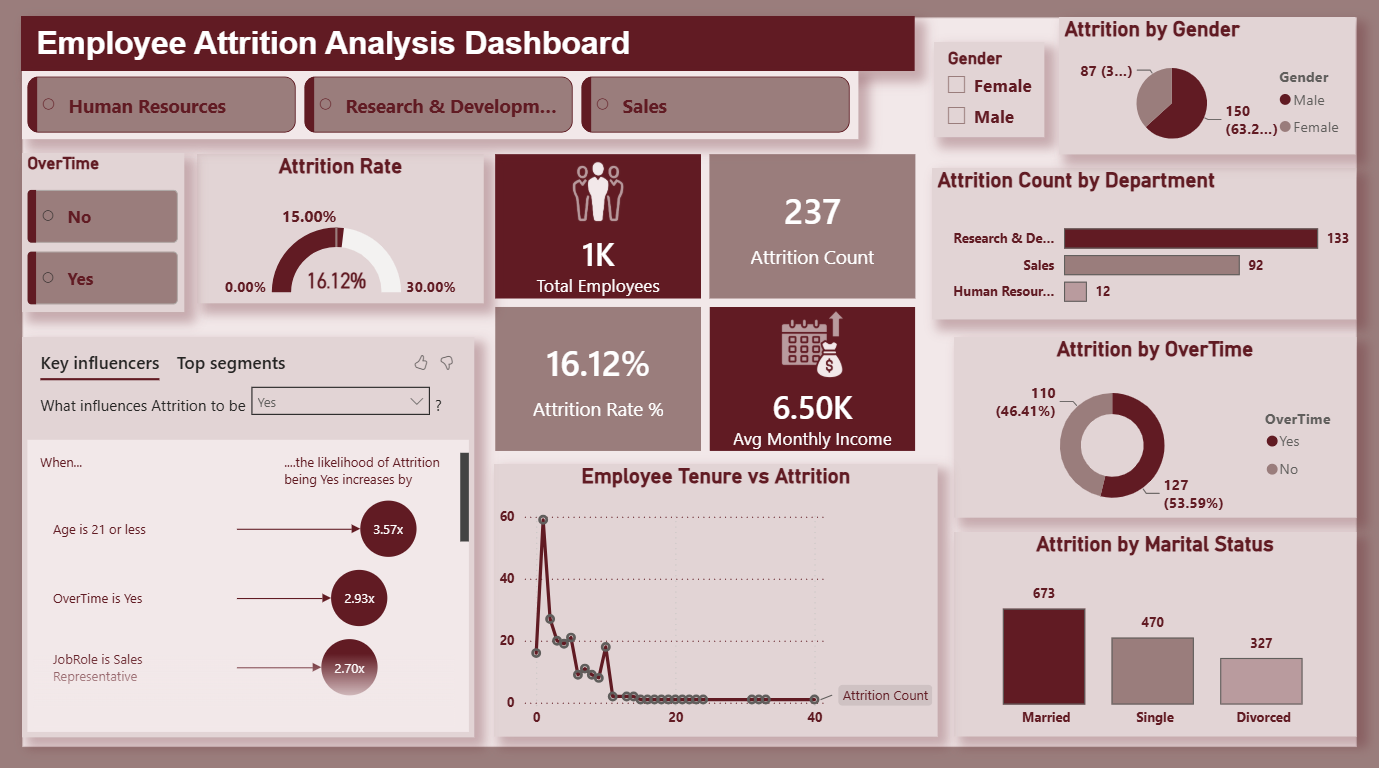

Layout of this report page (visuals, bound fields, positions):
{"tool":"powerbi","page":{"name":"Page 1","canvas":[1280,720],"ordinal":0},"visuals":[{"type":"shape","box":[23.1,24,826.2,50.8],"z":0},{"type":"textbox","title":"Employee Attrition Analysis Dashboard","box":[32.3,32.3,596.1,42.5],"z":1000},{"type":"cardVisual","fields":{"Data":["WA_Fn-UseC_-HR-Employee-Attrition.Total Employees","WA_Fn-UseC_-HR-Employee-Attrition.Attrition Count","WA_Fn-UseC_-HR-Employee-Attrition.Attrition Rate %","WA_Fn-UseC_-HR-Employee-Attrition.Average Monthly Income"]},"box":[444.5,134.9,423.3,308.7],"z":2000},{"type":"clusteredBarChart","fields":{"Category":["WA_Fn-UseC_-HR-Employee-Attrition.Department"],"Y":["WA_Fn-UseC_-HR-Employee-Attrition.Attrition Count"]},"box":[865,164.5,391.9,139.6],"z":3000},{"type":"gauge","title":"Attrition Rate","fields":{"Y":["WA_Fn-UseC_-HR-Employee-Attrition.Attrition Rate %"]},"box":[183.9,151.6,265.2,137.7],"z":4000},{"type":"donutChart","title":"Attrition by OverTime","fields":{"Category":["WA_Fn-UseC_-HR-Employee-Attrition.OverTime"],"Y":["WA_Fn-UseC_-HR-Employee-Attrition.Attrition Count"]},"box":[885.4,320.7,371.5,167.3],"z":5000},{"type":"lineClusteredColumnComboChart","title":"Attrition by Marital Status","fields":{"Category":["WA_Fn-UseC_-HR-Employee-Attrition.MaritalStatus"],"Y":["CountNonNull(WA_Fn-UseC_-HR-Employee-Attrition.Attrition)"]},"box":[885.4,500.9,371.5,189.5],"z":6000},{"type":"lineChart","title":"Employee Tenure vs Attrition","fields":{"Category":["WA_Fn-UseC_-HR-Employee-Attrition.YearsAtCompany"],"Y":["WA_Fn-UseC_-HR-Employee-Attrition.Attrition Count"]},"box":[460.2,438.1,410.3,252.3],"z":7000},{"type":"keyDriversVisual","fields":{"Target":["WA_Fn-UseC_-HR-Employee-Attrition.Attrition"],"ExplainBy":["WA_Fn-UseC_-HR-Employee-Attrition.OverTime","WA_Fn-UseC_-HR-Employee-Attrition.MonthlyIncome","WA_Fn-UseC_-HR-Employee-Attrition.JobSatisfaction","WA_Fn-UseC_-HR-Employee-Attrition.EnvironmentSatisfaction","WA_Fn-UseC_-HR-Employee-Attrition.WorkLifeBalance","WA_Fn-UseC_-HR-Employee-Attrition.Age","WA_Fn-UseC_-HR-Employee-Attrition.YearsAtCompany","WA_Fn-UseC_-HR-Employee-Attrition.DistanceFromHome","WA_Fn-UseC_-HR-Employee-Attrition.JobRole"]},"box":[24.6,321,425.2,369.3],"z":8000},{"type":"advancedSlicerVisual","fields":{"Values":["WA_Fn-UseC_-HR-Employee-Attrition.Department"]},"box":[24.6,74.5,772.5,63.5],"z":9000},{"type":"slicer","fields":{"Values":["WA_Fn-UseC_-HR-Employee-Attrition.Gender"]},"box":[866.9,48.1,101.7,87.8],"z":10000},{"type":"advancedSlicerVisual","fields":{"Values":["WA_Fn-UseC_-HR-Employee-Attrition.OverTime"]},"box":[24.6,150.8,148.2,161.8],"z":11000},{"type":"pieChart","title":"Attrition by Gender","fields":{"Category":["WA_Fn-UseC_-HR-Employee-Attrition.Gender"],"Y":["WA_Fn-UseC_-HR-Employee-Attrition.Attrition Count"]},"box":[982.6,25.4,274.4,127.1],"z":12000}]}

Visuals, with their boxes in screenshot pixels (x1, y1, x2, y2), scaled from the page's 1280x720 canvas onto the 1379x768 screenshot:
shape: BBox(25, 26, 915, 80)
"Employee Attrition Analysis Dashboard" textbox: BBox(35, 34, 677, 80)
cardVisual - WA_Fn-UseC_-HR-Employee-Attrition.Total Employees x WA_Fn-UseC_-HR-Employee-Attrition.Attrition Count: BBox(479, 144, 935, 473)
clusteredBarChart - WA_Fn-UseC_-HR-Employee-Attrition.Department x WA_Fn-UseC_-HR-Employee-Attrition.Attrition Count: BBox(932, 175, 1354, 324)
"Attrition Rate" gauge: BBox(198, 162, 484, 309)
"Attrition by OverTime" donutChart: BBox(954, 342, 1354, 521)
"Attrition by Marital Status" lineClusteredColumnComboChart: BBox(954, 534, 1354, 736)
"Employee Tenure vs Attrition" lineChart: BBox(496, 467, 938, 736)
keyDriversVisual - WA_Fn-UseC_-HR-Employee-Attrition.Attrition x WA_Fn-UseC_-HR-Employee-Attrition.OverTime: BBox(27, 342, 485, 736)
advancedSlicerVisual - WA_Fn-UseC_-HR-Employee-Attrition.Department: BBox(27, 79, 859, 147)
slicer - WA_Fn-UseC_-HR-Employee-Attrition.Gender: BBox(934, 51, 1044, 145)
advancedSlicerVisual - WA_Fn-UseC_-HR-Employee-Attrition.OverTime: BBox(27, 161, 186, 333)
"Attrition by Gender" pieChart: BBox(1059, 27, 1354, 163)
